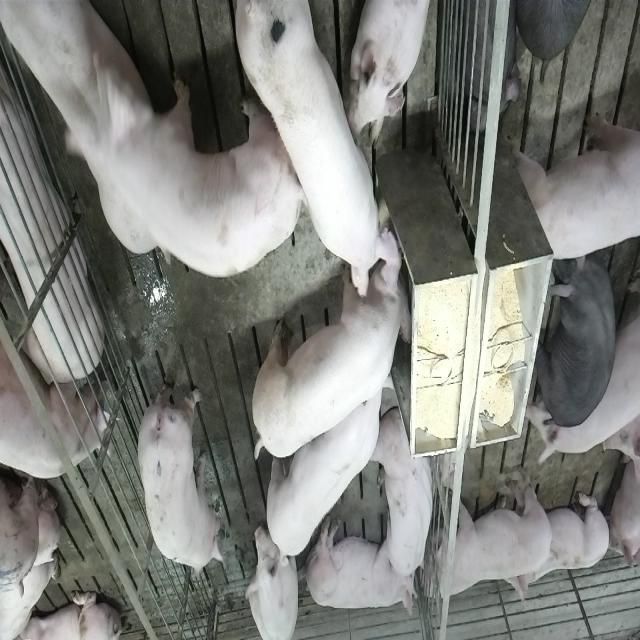Feeding: (238, 5, 410, 308), (254, 242, 420, 468)
Lateral_lying: (0, 19, 102, 394), (304, 513, 418, 619)
Sitting: (248, 522, 302, 638)
Standing: (4, 0, 192, 256), (130, 28, 304, 280), (262, 354, 394, 564), (0, 0, 142, 175), (512, 100, 638, 266), (138, 365, 224, 581), (424, 458, 556, 592), (534, 254, 618, 432), (0, 341, 109, 478)
Sternal_lying: (502, 488, 608, 612), (352, 0, 435, 137), (374, 408, 438, 582)
